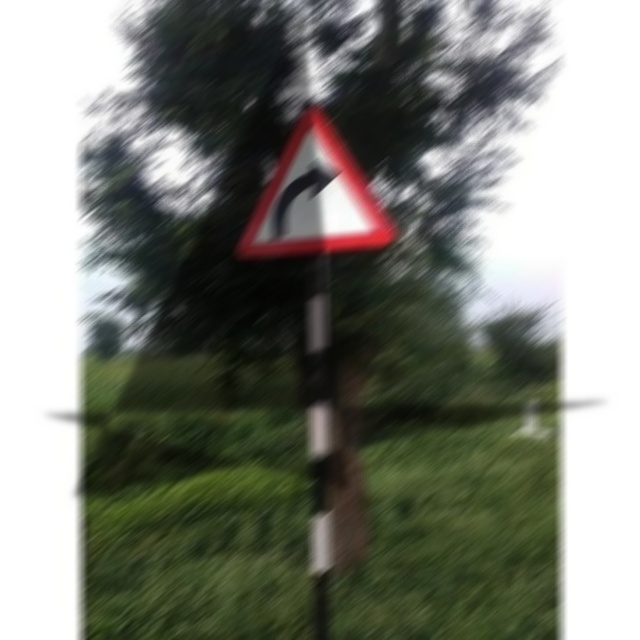Right_Hand_Curve: (233, 105, 401, 255)
